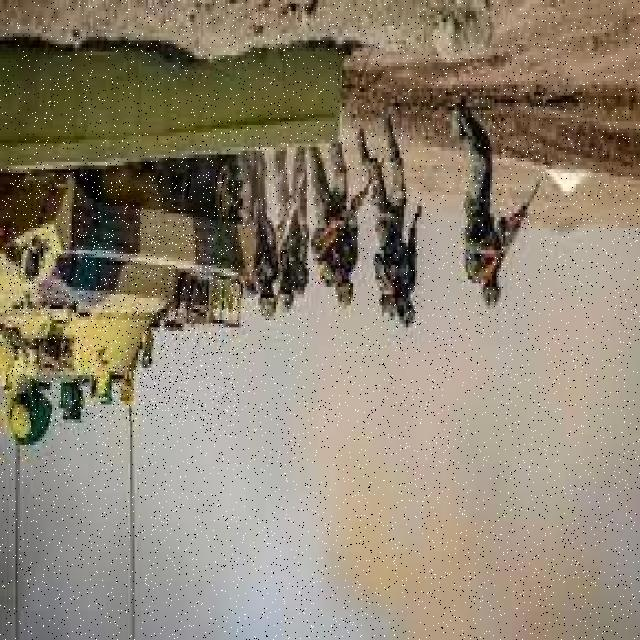MIL_MBT: (6, 175, 240, 421)
